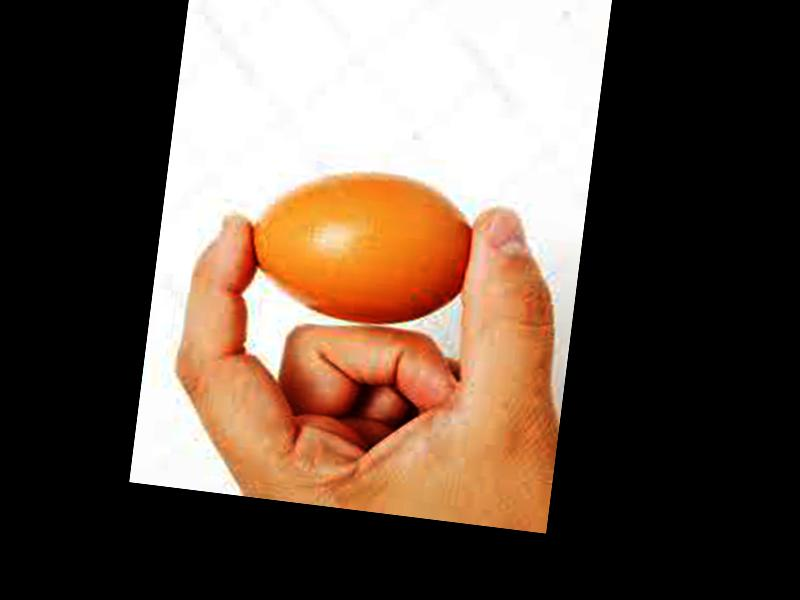Eggs: (238, 157, 478, 335)
